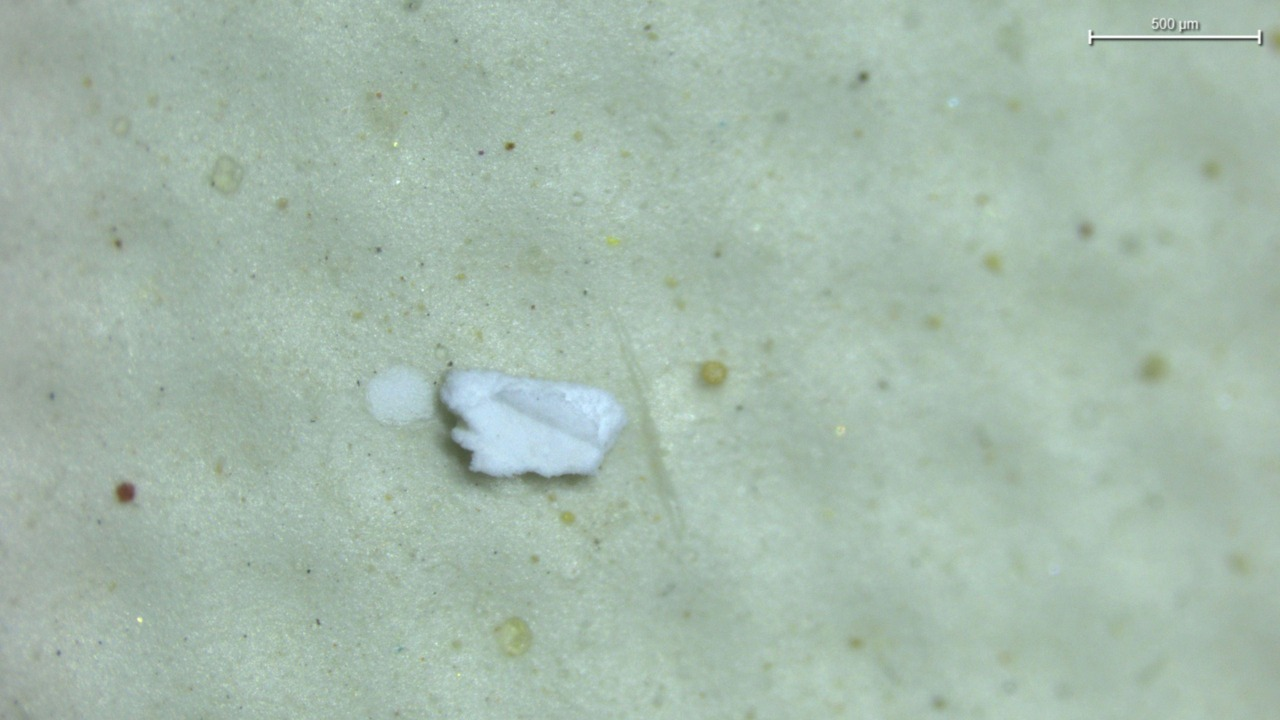microplastic_fragment: (441, 369, 626, 477)
